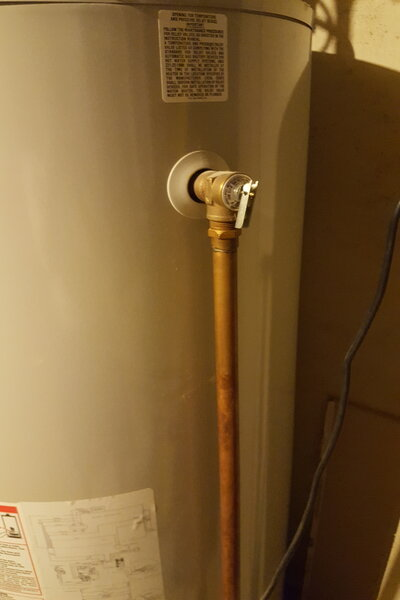valve: (187, 162, 262, 266)
